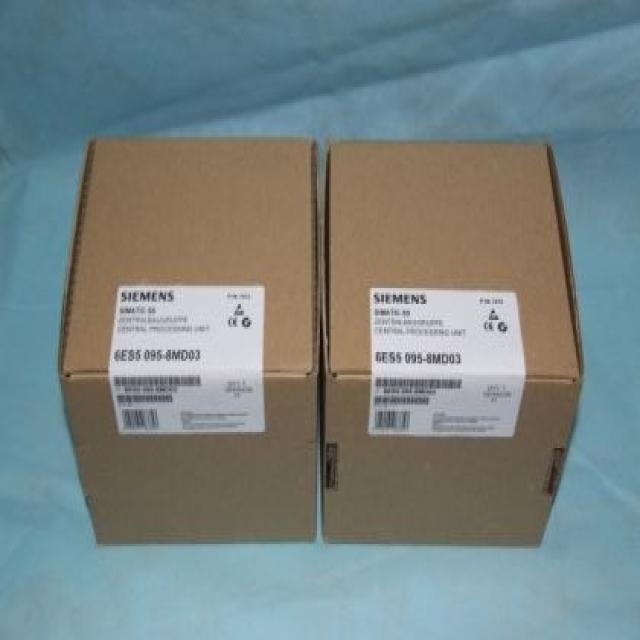box: (318, 139, 584, 550), (56, 137, 320, 544)
